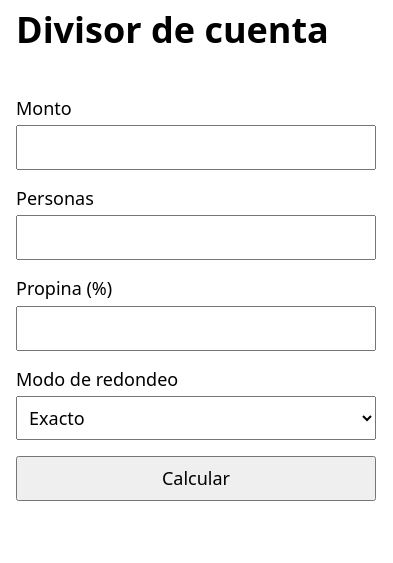
Test: PantallaDivisor: entradas inválidas (US2) › tras un error y un cálculo válido desaparece el mensaje y se muestra el importe
Type "90" into the field labelled "Monto" at point(196, 147), box [16, 125, 376, 170]
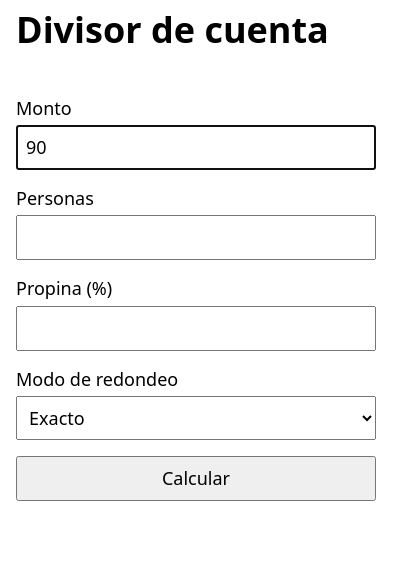
Type "0" into the field labelled "Personas" at point(196, 238), box [16, 215, 376, 260]
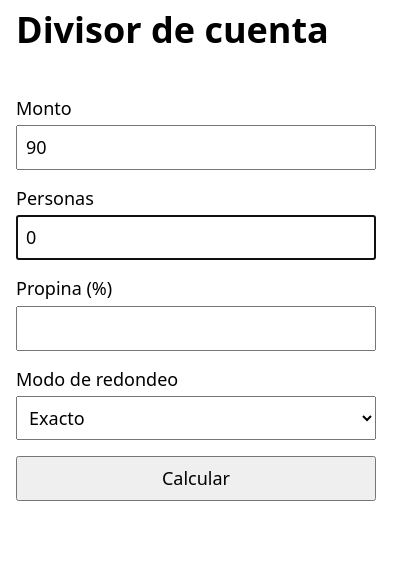
Type "0" into the field labelled "Propina (%)" at point(196, 328), box [16, 306, 376, 351]
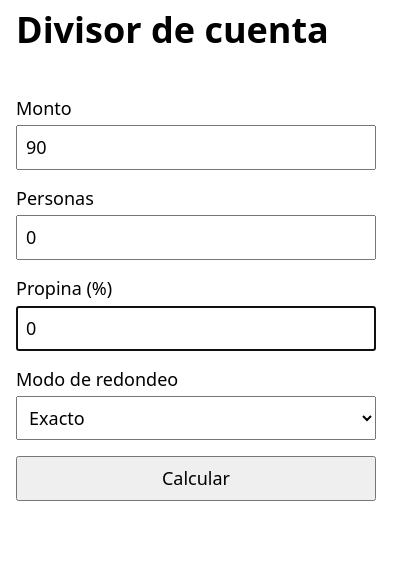
Click the button "Calcular" at point(196, 478), box [16, 456, 376, 501]
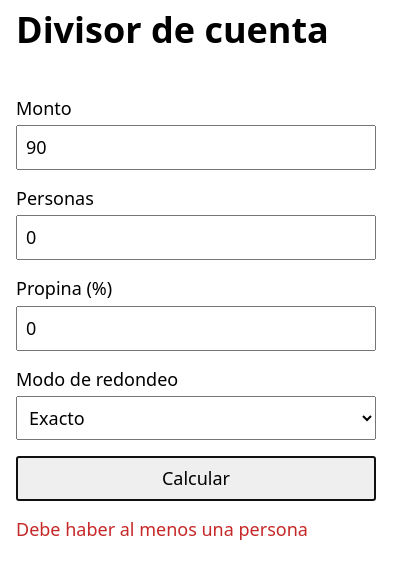
Result: the message "Debe haber al menos una persona" is shown at [16, 517, 308, 541]
Replace the text in the field labelled "Personas" with "3" at point(196, 238), box [16, 215, 376, 260]
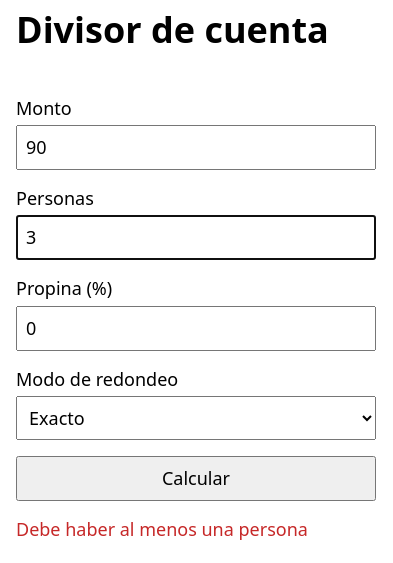
Click the button "Calcular" at point(196, 478), box [16, 456, 376, 501]
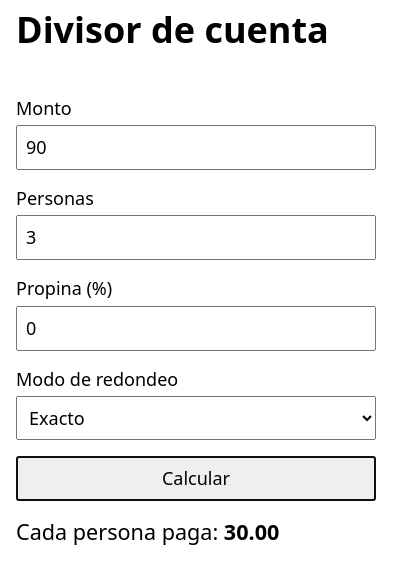
Result: the message "Debe haber al menos una persona" is gone
Result: the text "30.00" is shown at [224, 517, 279, 546]
